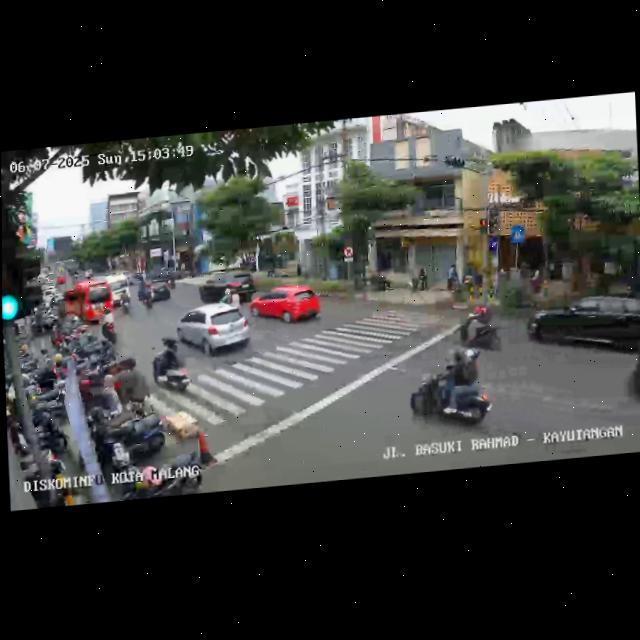car: (527, 288, 640, 366), (173, 301, 252, 362), (247, 280, 322, 331), (61, 278, 112, 326), (197, 268, 254, 307), (92, 272, 131, 306), (140, 276, 173, 306)
motorcycle: (412, 345, 495, 436), (451, 299, 511, 359), (150, 333, 189, 396), (100, 306, 116, 346), (140, 282, 154, 311), (119, 289, 132, 315)
